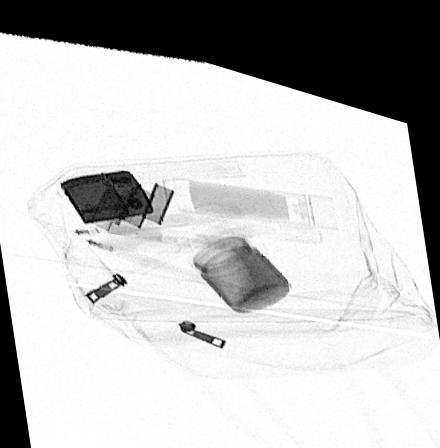Lighter: (61, 163, 155, 219)
